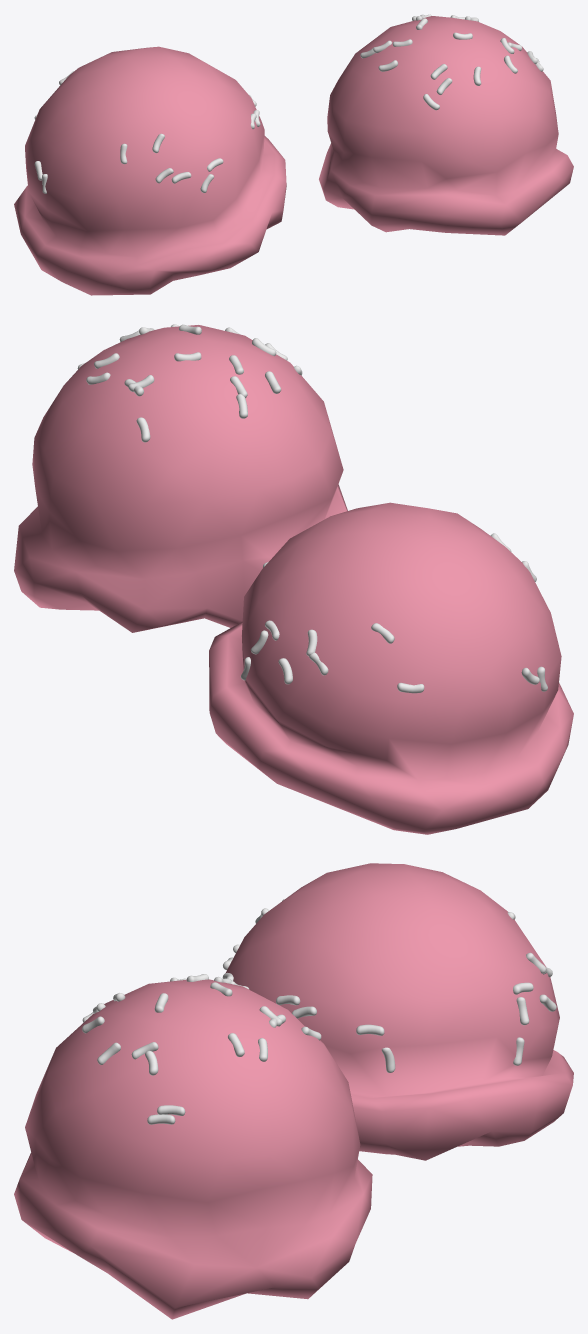
The model's file is Ice cream.fbx.
3 renders of one model, top to bottom at view 1: azimuth 30°, elevation 25°; view 2: azimuth 150°, elevation 25°; view 3: azimuth 270°, elevation 25°, orthographic. The views are drawn at different scales.
Visible parts, largest first — view 1: 球體, 球體.001; view 2: 球體, 球體.001; view 3: 球體.001, 球體.
Boxes of the visible parts, left/top/right/bottom form: 球體: left=14, top=46, right=286, bottom=295; 球體.001: left=319, top=16, right=573, bottom=235; 球體: left=209, top=502, right=573, bottom=834; 球體.001: left=14, top=325, right=347, bottom=632; 球體.001: left=14, top=979, right=372, bottom=1319; 球體: left=225, top=863, right=573, bottom=1160.
Size of the model in its own units: 12.83 by 6.18 by 9.98.
